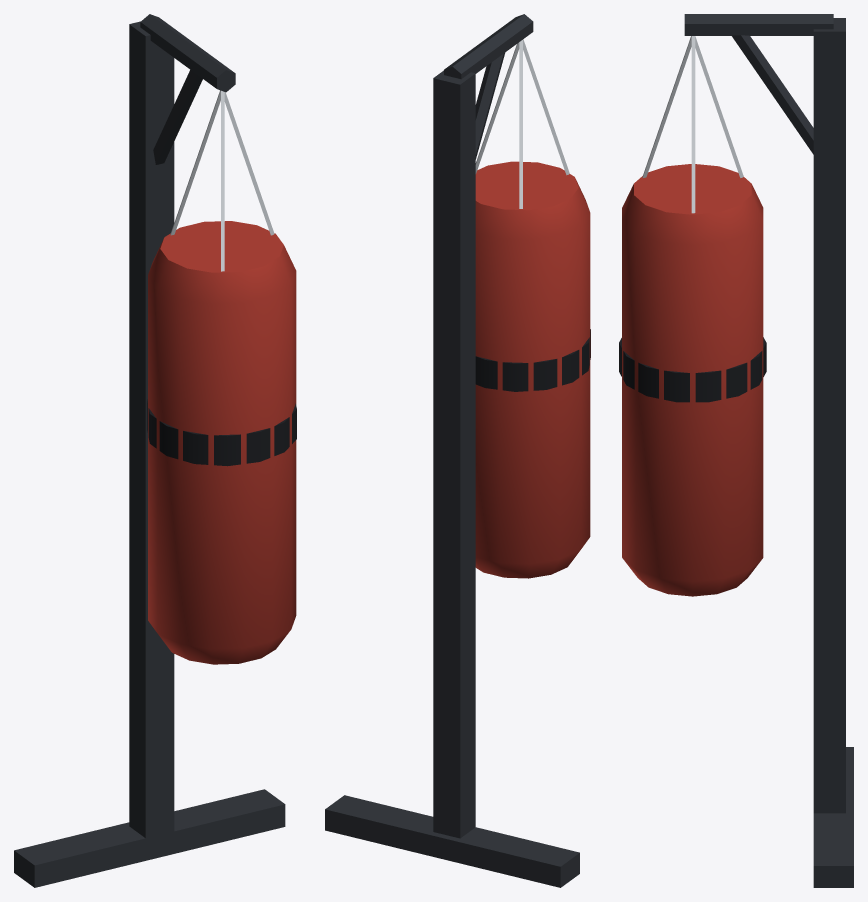
The model's file is boxing_bag.glb.
3 views of the same model, side by side, from view 1: azimuth 30°, elevation 25°; view 2: azimuth 150°, elevation 25°; view 3: azimuth 270°, elevation 25° (orthographic). The views are drawn at different scales.
Visible parts, largest first — view 1: boxing_bag; view 2: boxing_bag; view 3: boxing_bag.
Part boxes in pixels (<box>): boxing_bag: <box>14,14,296,887</box>; boxing_bag: <box>325,14,590,887</box>; boxing_bag: <box>619,14,853,887</box>.
Size of the model in its own units: 0.7 by 2.23 by 0.583.
